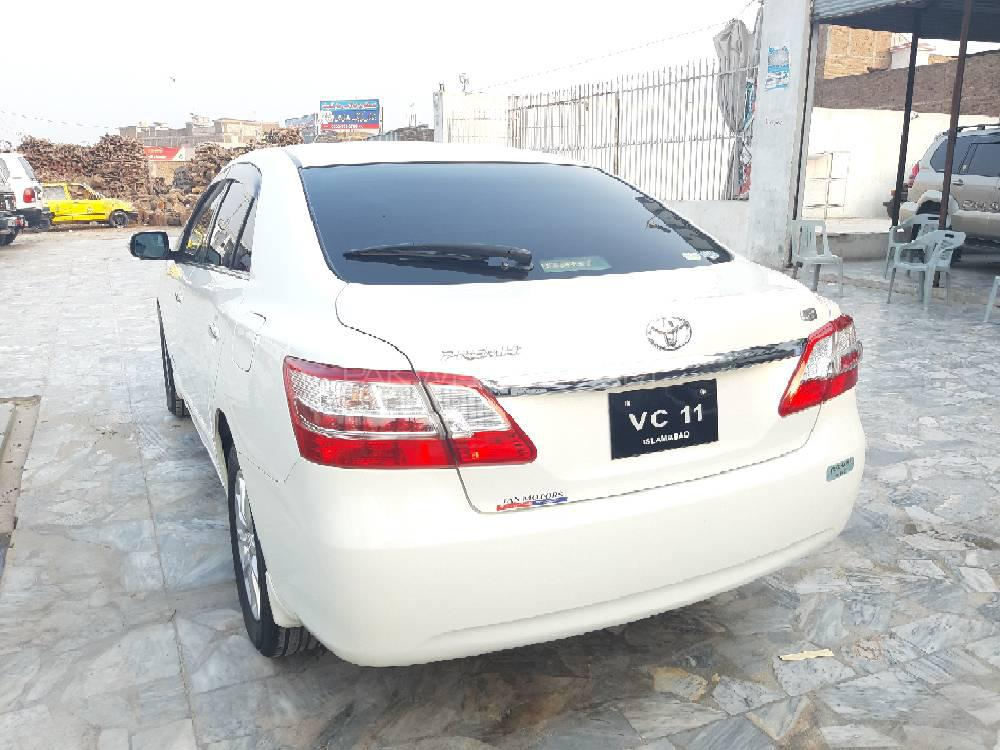license plate: (611, 394, 717, 449)
